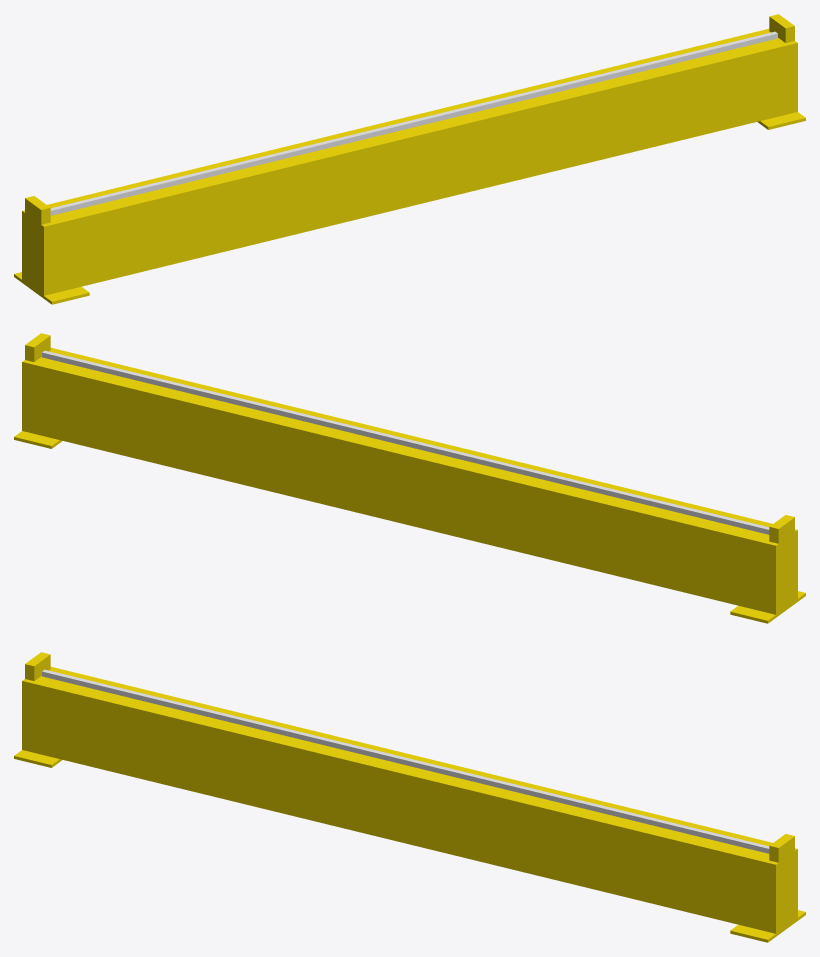
File: girder-bridge.glb
The picture shows the model from 3 angles, top to bottom: view 1: azimuth 30°, elevation 25°; view 2: azimuth 150°, elevation 25°; view 3: azimuth 330°, elevation 25°; orthographic projection.
Parts seen in each view (by area): view 1: body, rail; view 2: body, rail; view 3: body, rail.
Part boxes in pixels (bbox=[...]): body: bbox=[14, 14, 805, 304]; rail: bbox=[50, 31, 777, 215]; body: bbox=[14, 333, 805, 623]; rail: bbox=[42, 350, 769, 534]; body: bbox=[14, 652, 805, 942]; rail: bbox=[42, 669, 769, 853].
Size of what is drawn, in the model's own units: 8 by 0.88 by 0.7.
